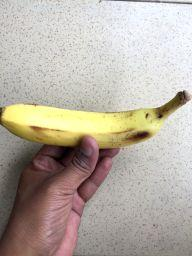Banana Ripe: (0, 89, 192, 149)
